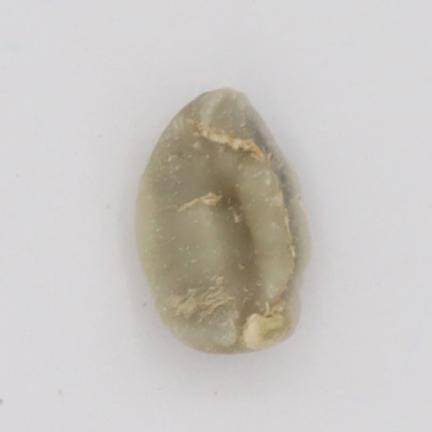broken: (136, 89, 308, 353)
